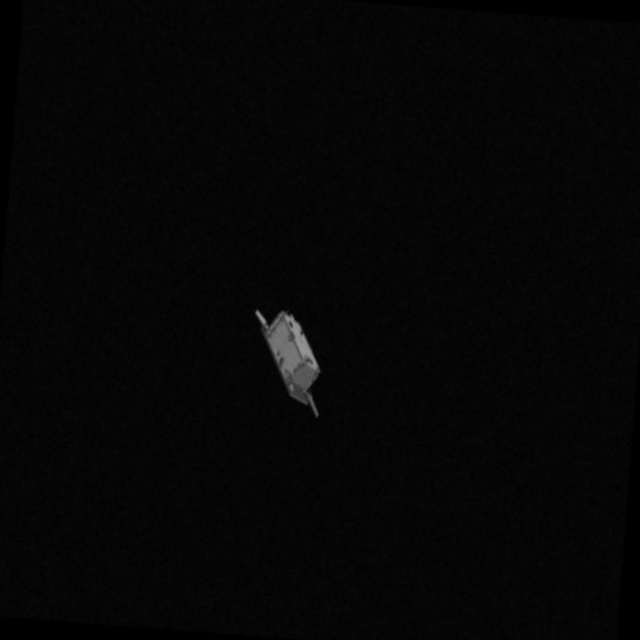medium_debris: (237, 304, 333, 419)
